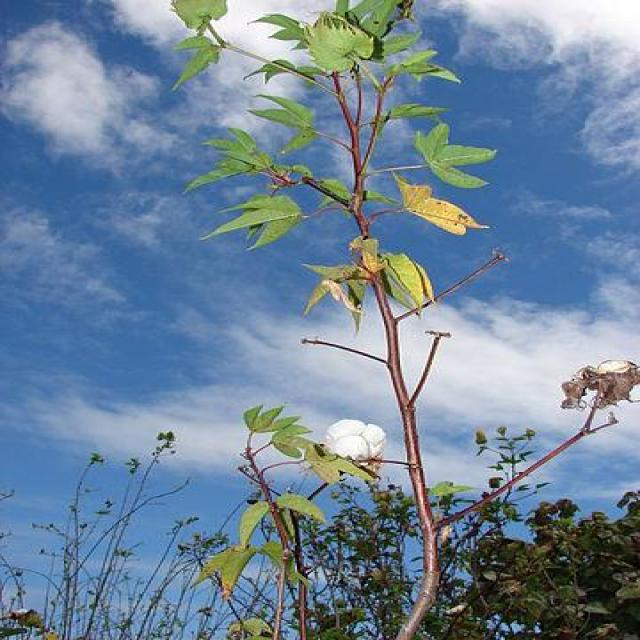Late_blight: (318, 419, 386, 470)
